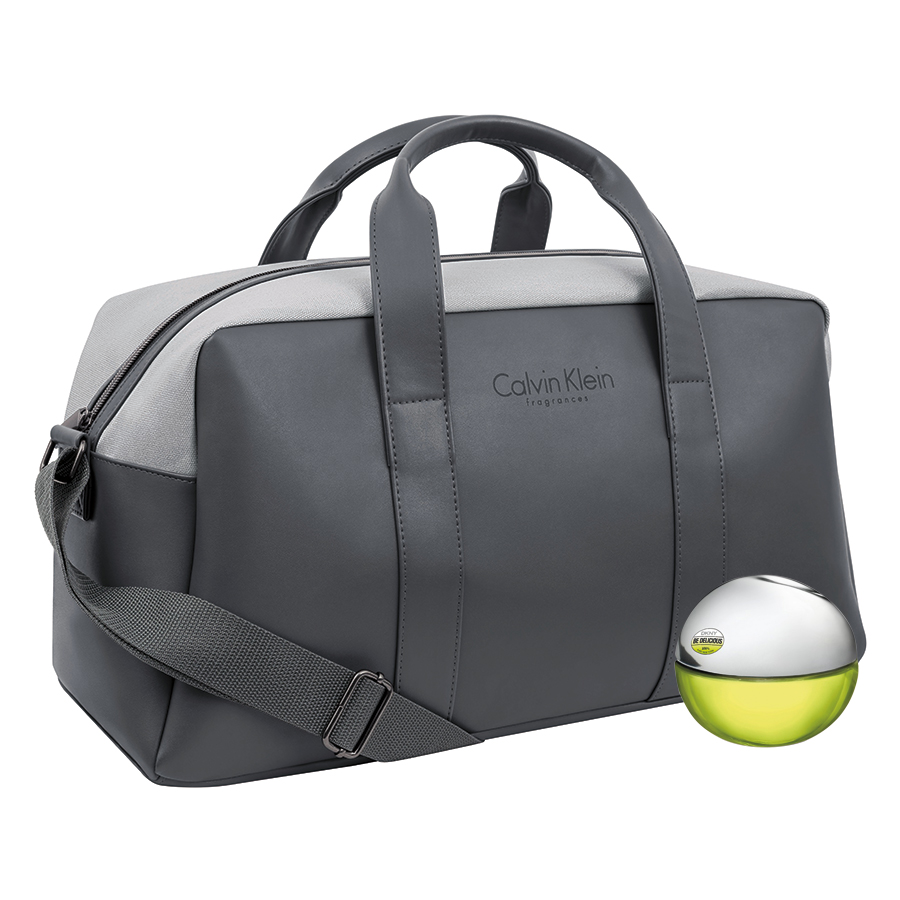Calvin Klein: (486, 362, 620, 400)
